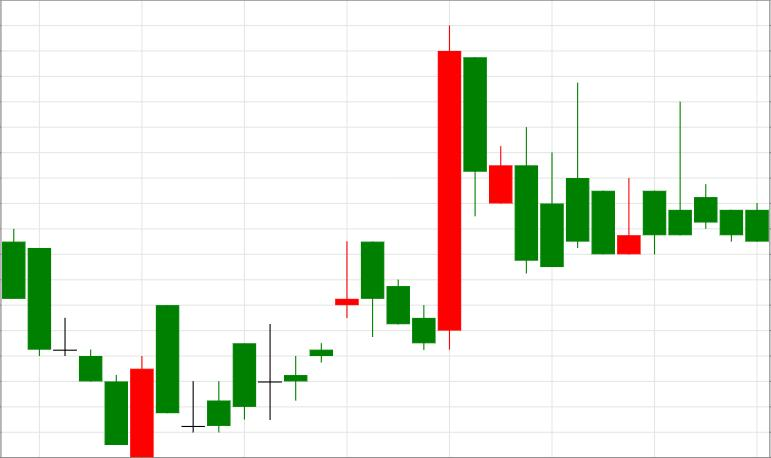bullish_engulfing_rise: (1, 228, 153, 457)
